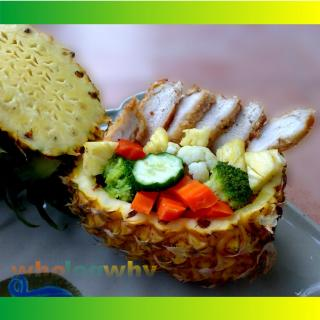Cucumber: (134, 149, 187, 187)
